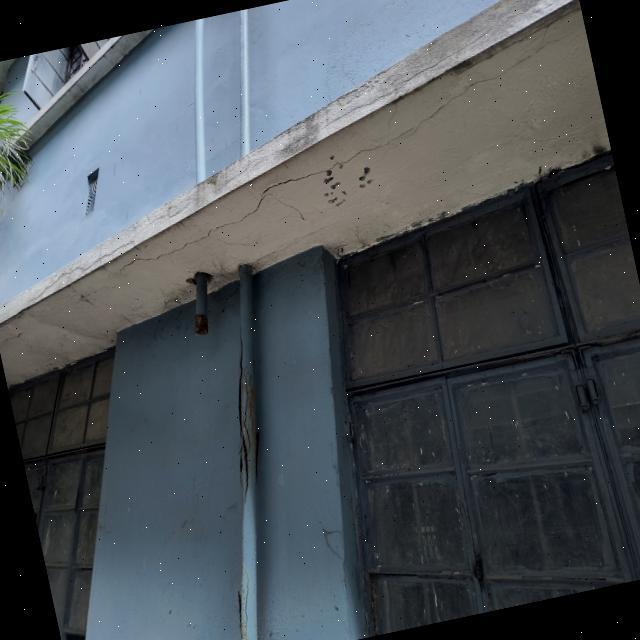Corrosion: (194, 314, 208, 334)
Crack: (116, 124, 415, 279), (316, 23, 495, 132), (415, 36, 570, 134), (25, 239, 141, 303), (239, 365, 257, 505), (237, 562, 248, 640)
